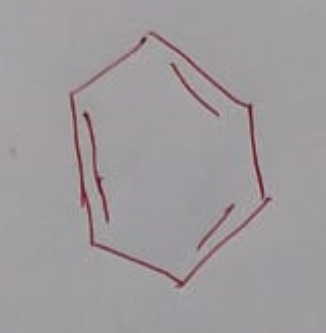shape_mask: (55, 20, 288, 302)
